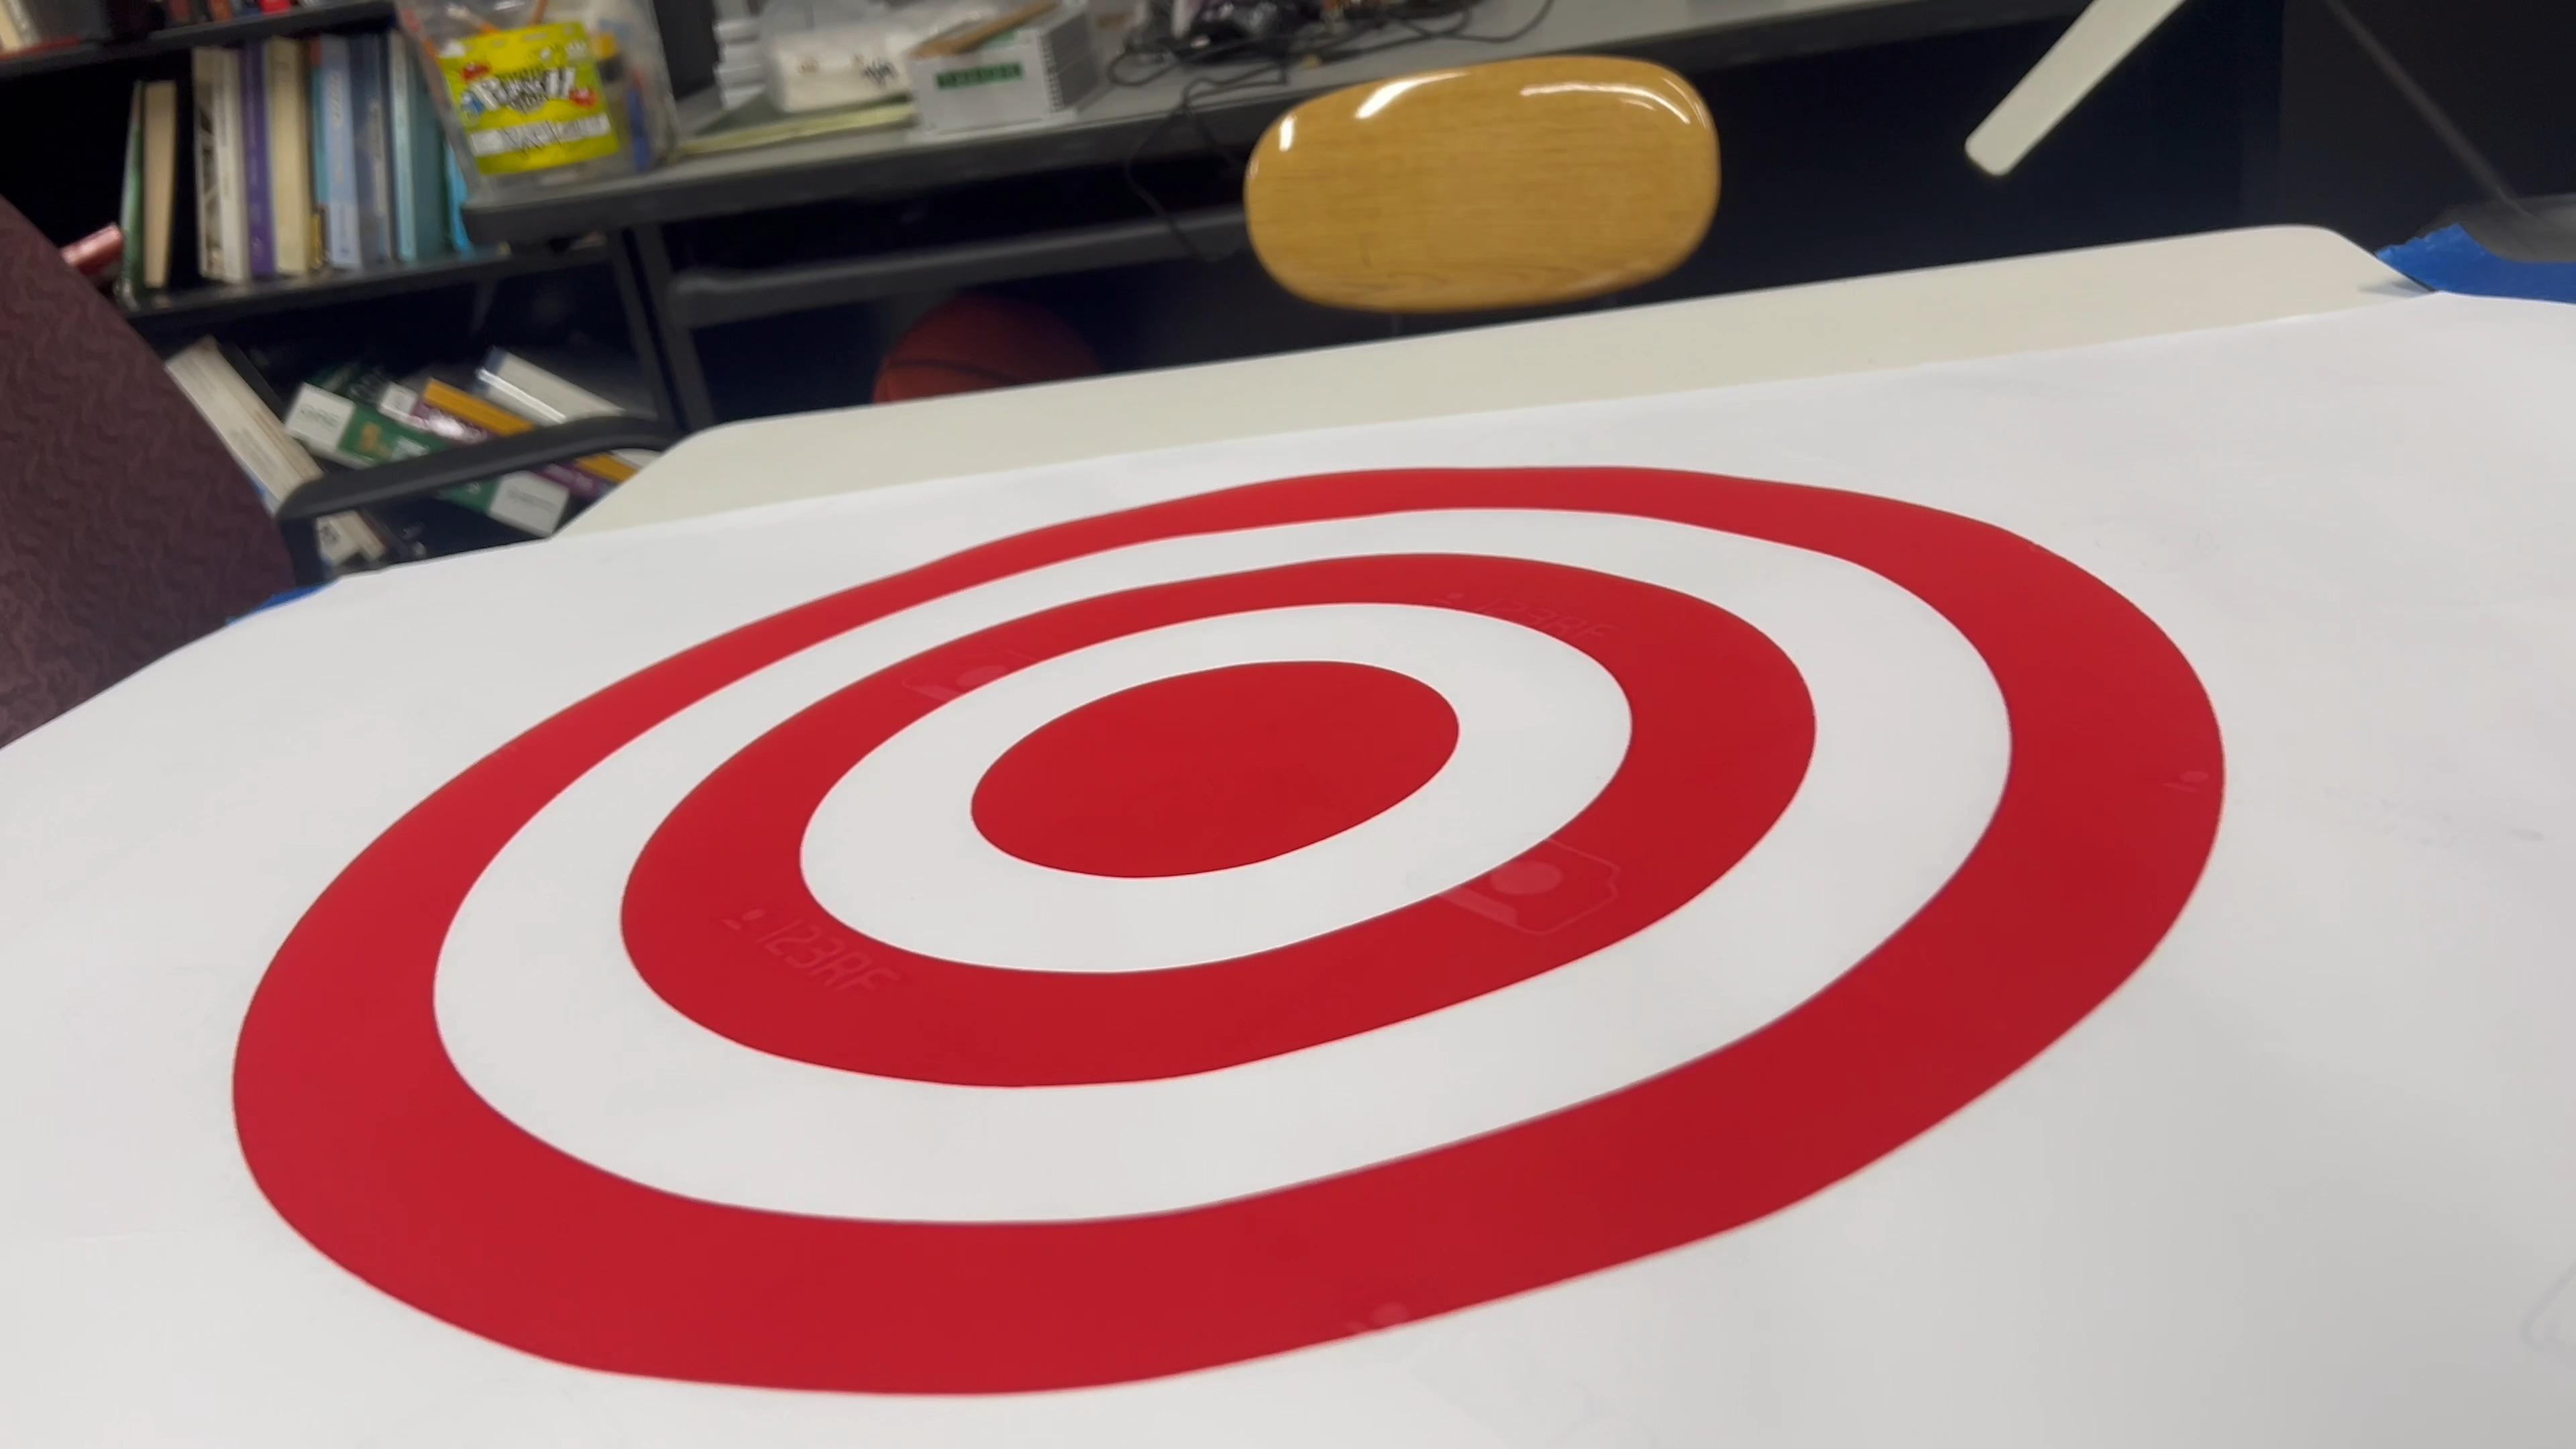target_red: (193, 426, 2261, 1428)
